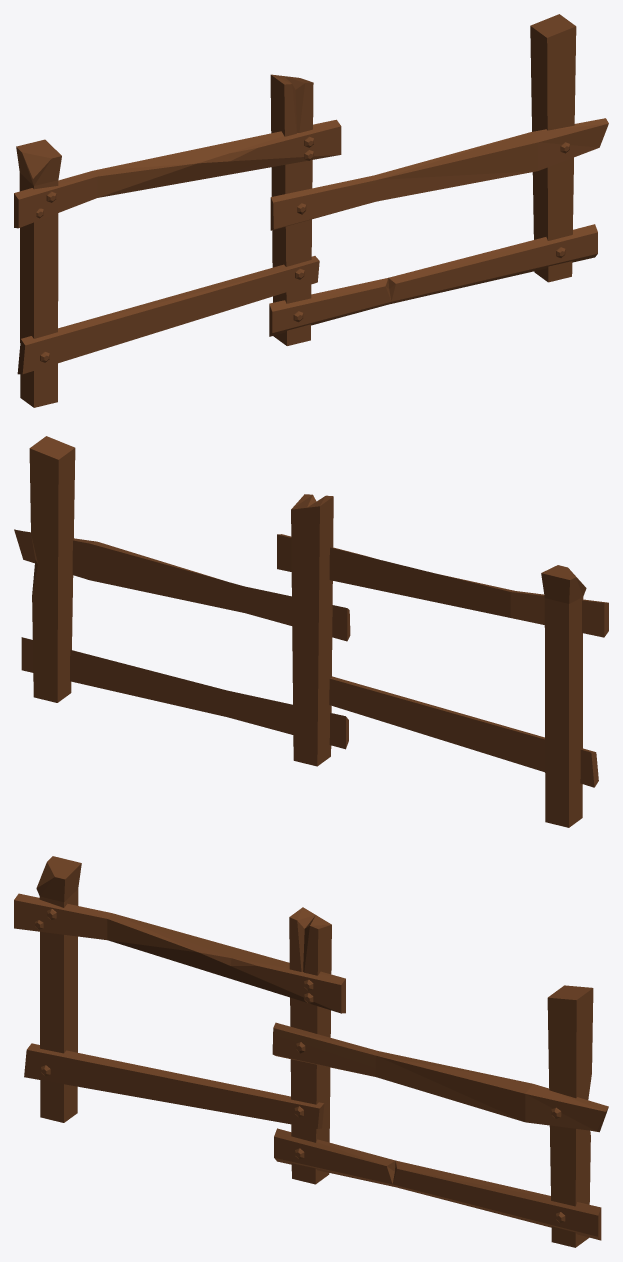
The picture shows the model from 3 angles, top to bottom: view 1: azimuth 30°, elevation 25°; view 2: azimuth 150°, elevation 25°; view 3: azimuth 330°, elevation 25°; orthographic projection.
Parts seen in each view (by area): view 1: Fense_002; view 2: Fense_002; view 3: Fense_002.
Boxes of the visible parts, x1,y1,x2,y2 form: Fense_002: (14,14,608,407); Fense_002: (14,436,608,827); Fense_002: (14,856,608,1247).
Size of the model in its own units: 2.48 by 1.05 by 0.171.
